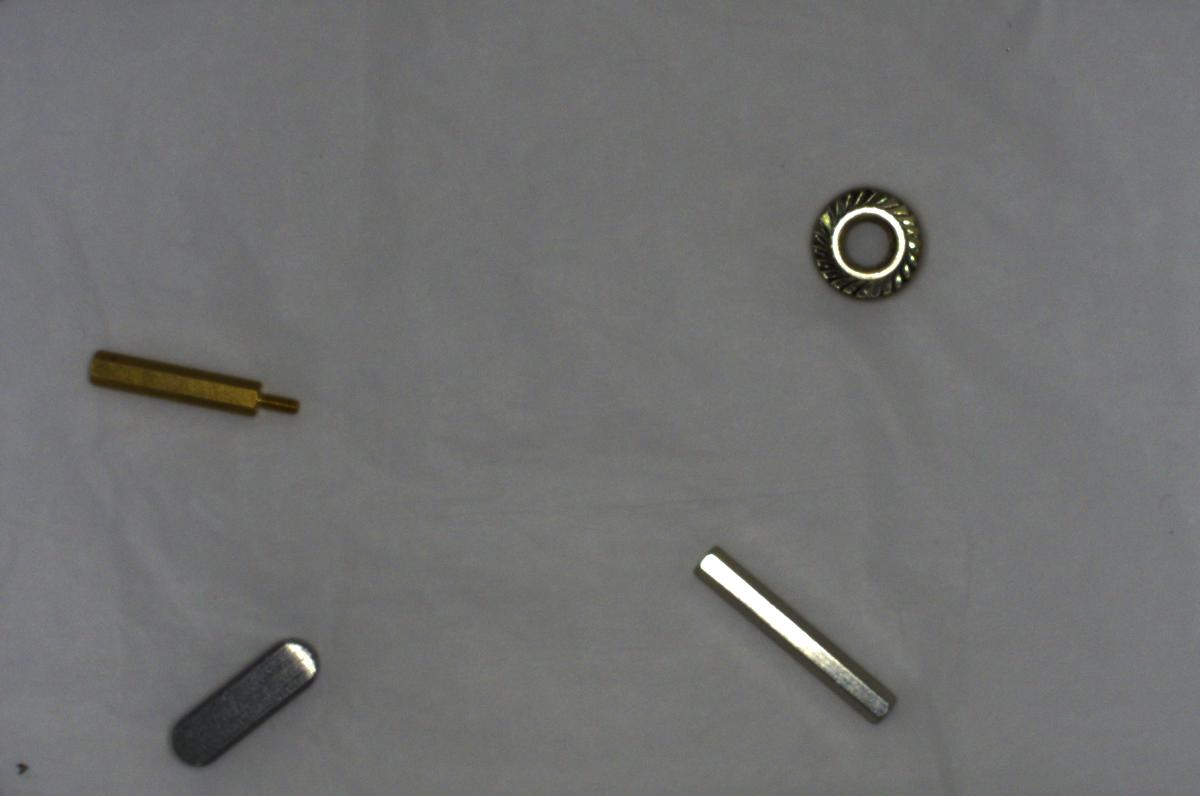Double hexagonal column: (693, 541, 901, 721)
Flange nut: (806, 178, 924, 305)
Hexagon pillar: (78, 343, 312, 422)
Keybar: (160, 632, 325, 773)
